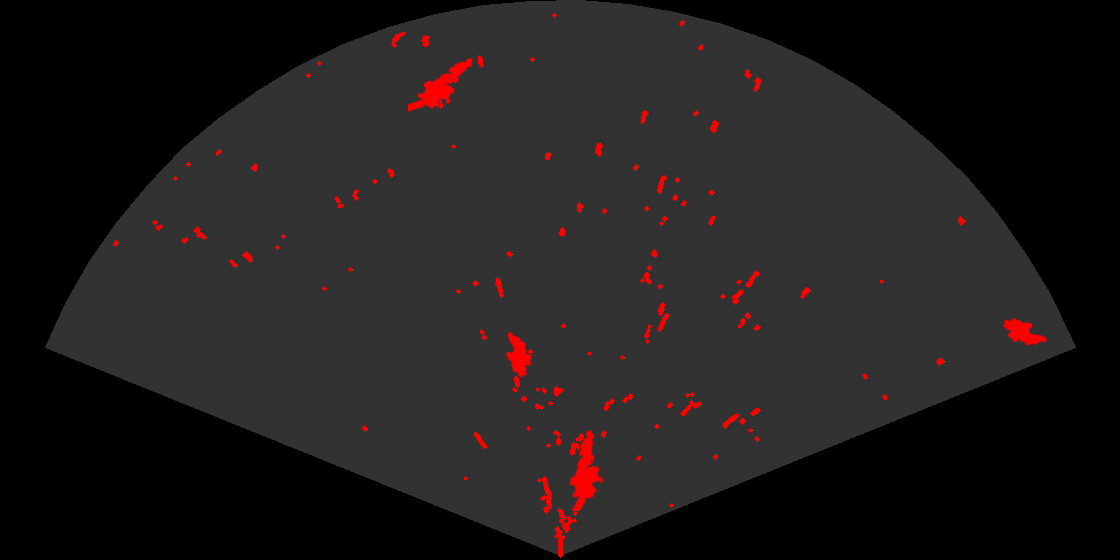AUV: (1001, 317, 1049, 347), (505, 330, 533, 379)
frogman: (408, 56, 474, 113), (568, 428, 605, 511)
